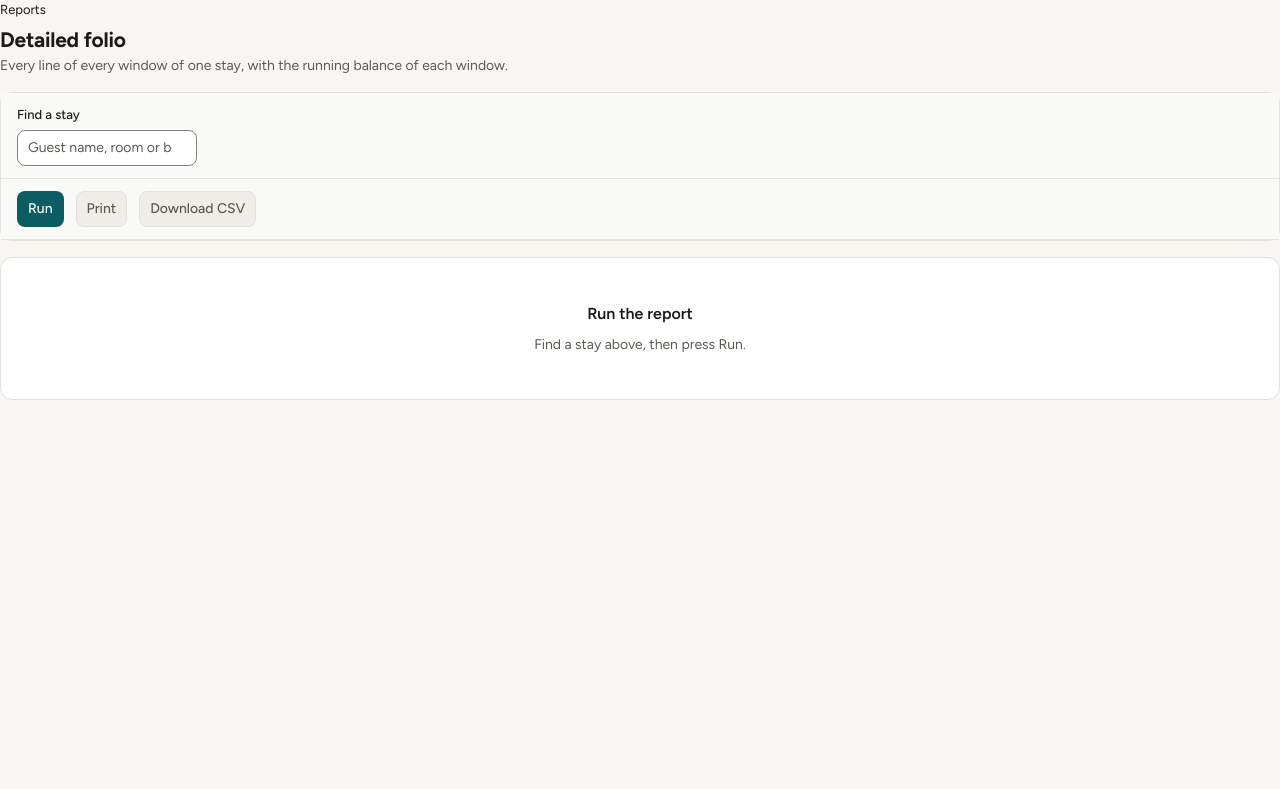
Test: ReportRunnerScreen: Part B cashier and financial › detailed folio: no run without a stay; the picker uses the desk search and fills the key
Check: the heading "Detailed folio" is shown, box left=0, top=26, right=126, bottom=54
Check: the element with test id "report-idle" shows "Find a stay above, then press Run.", box left=534, top=336, right=746, bottom=353
Click the button with test id "report-run": (40, 209) left=17, top=191, right=64, bottom=227
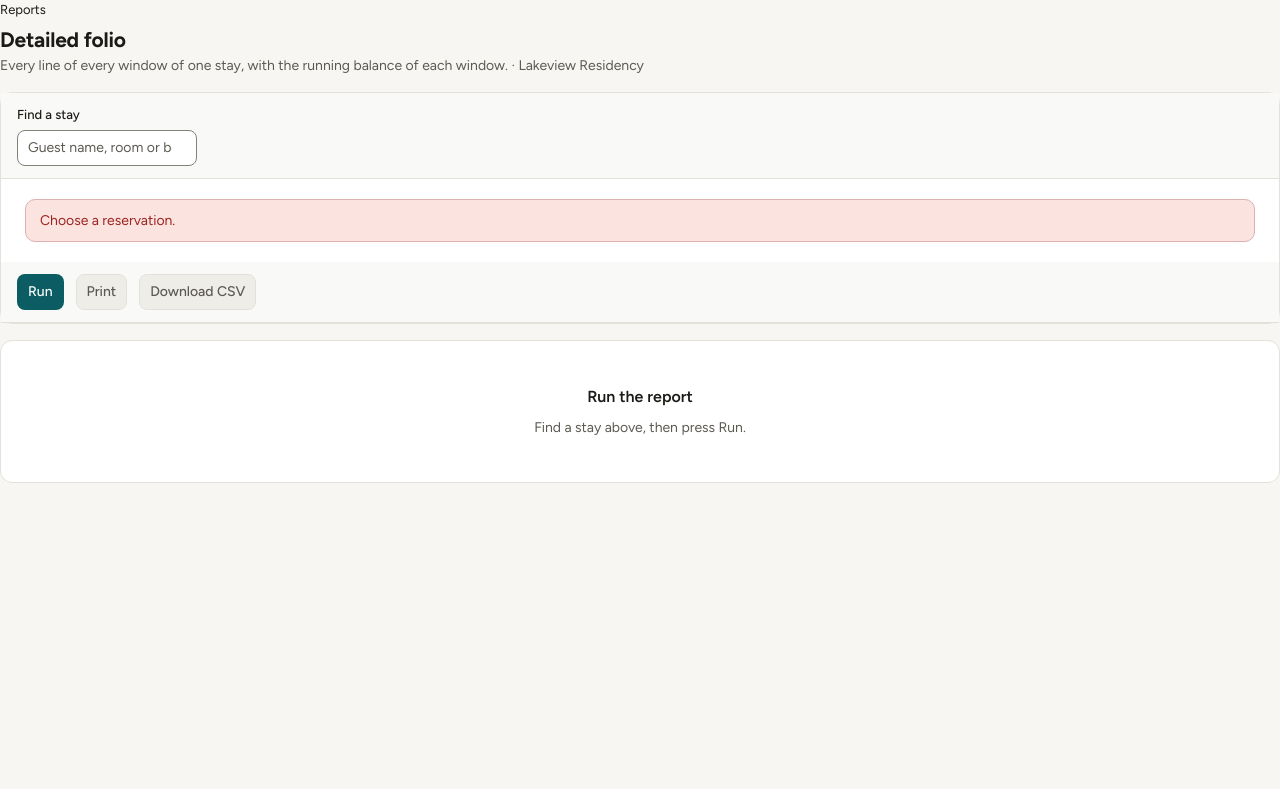
Check: the message with test id "report-form-error" reads "Choose a reservation.", box left=40, top=212, right=175, bottom=229
In the search field with test id "report-reservation-search": (107, 148) left=17, top=130, right=197, bottom=166, type "asha"
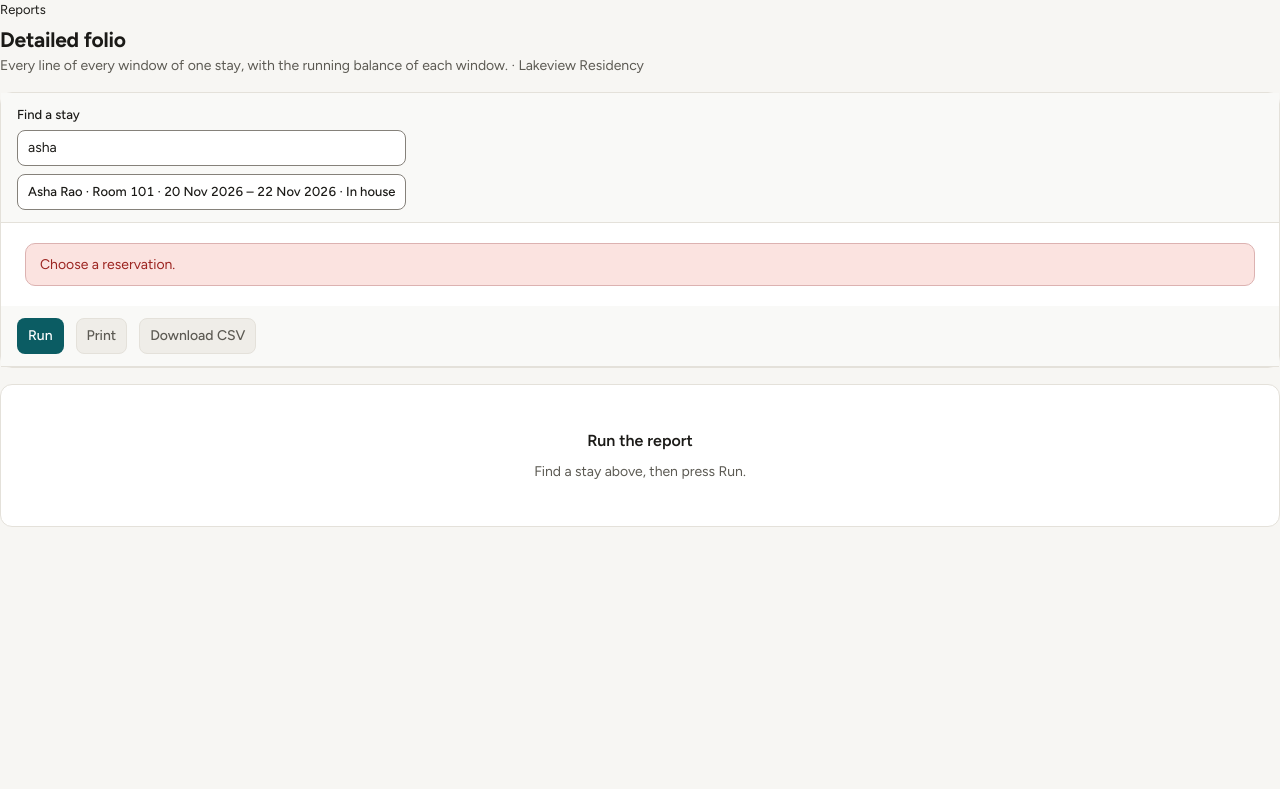
Click the button "Asha Rao · Room 101 · 20 Nov 2026 – 22 Nov 2026 · In house": (212, 192) left=17, top=174, right=406, bottom=210
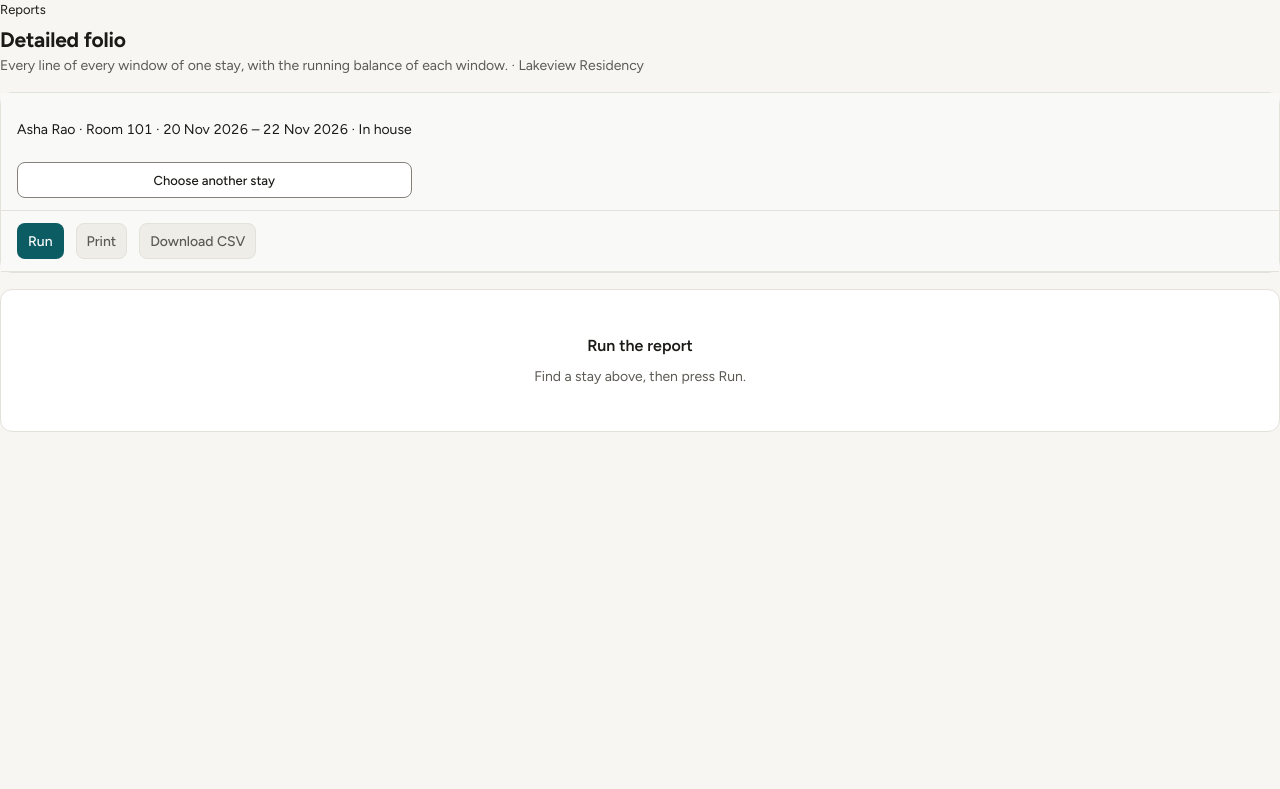
Check: the element with test id "report-reservation-picked" shows "Asha Rao · Room 101", box left=17, top=122, right=412, bottom=138
Click the button with test id "report-run": (40, 242) left=17, top=224, right=64, bottom=260
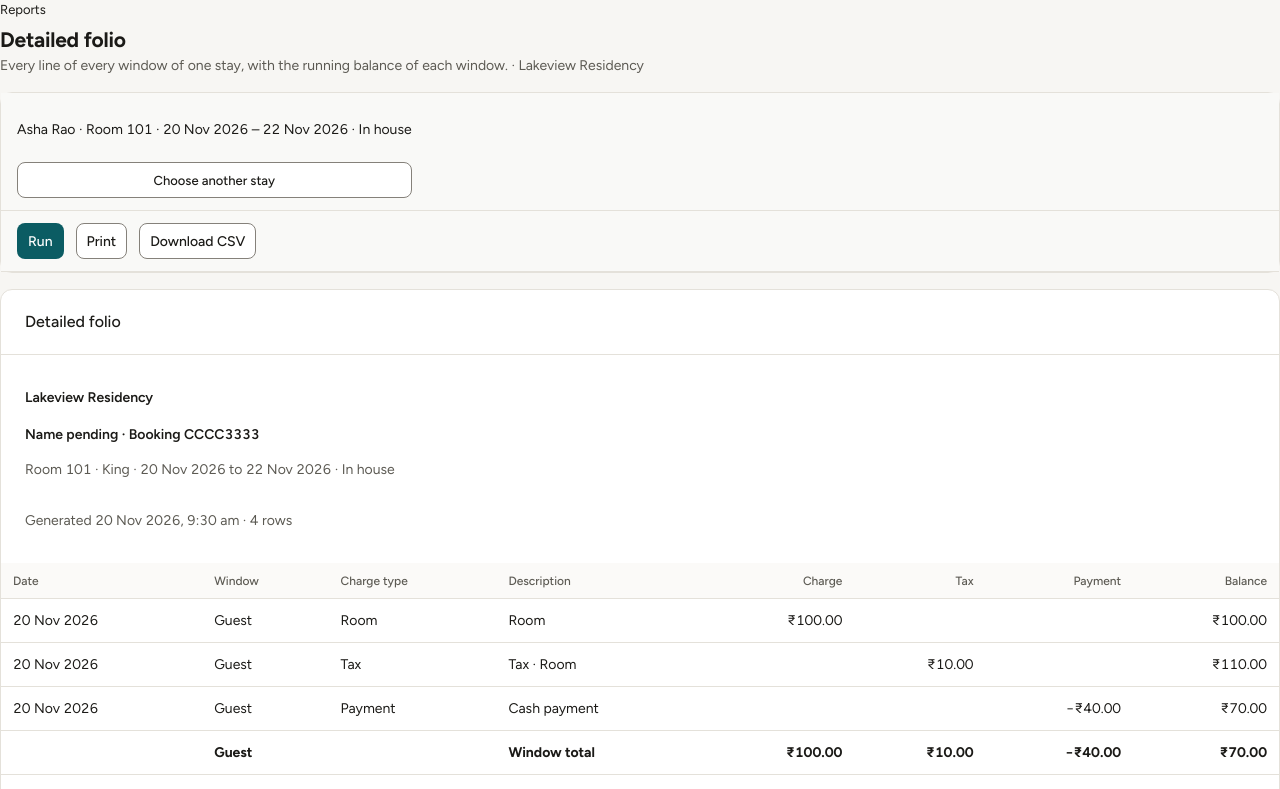
Click the button with test id "report-reservation-change": (214, 180) left=17, top=162, right=412, bottom=198
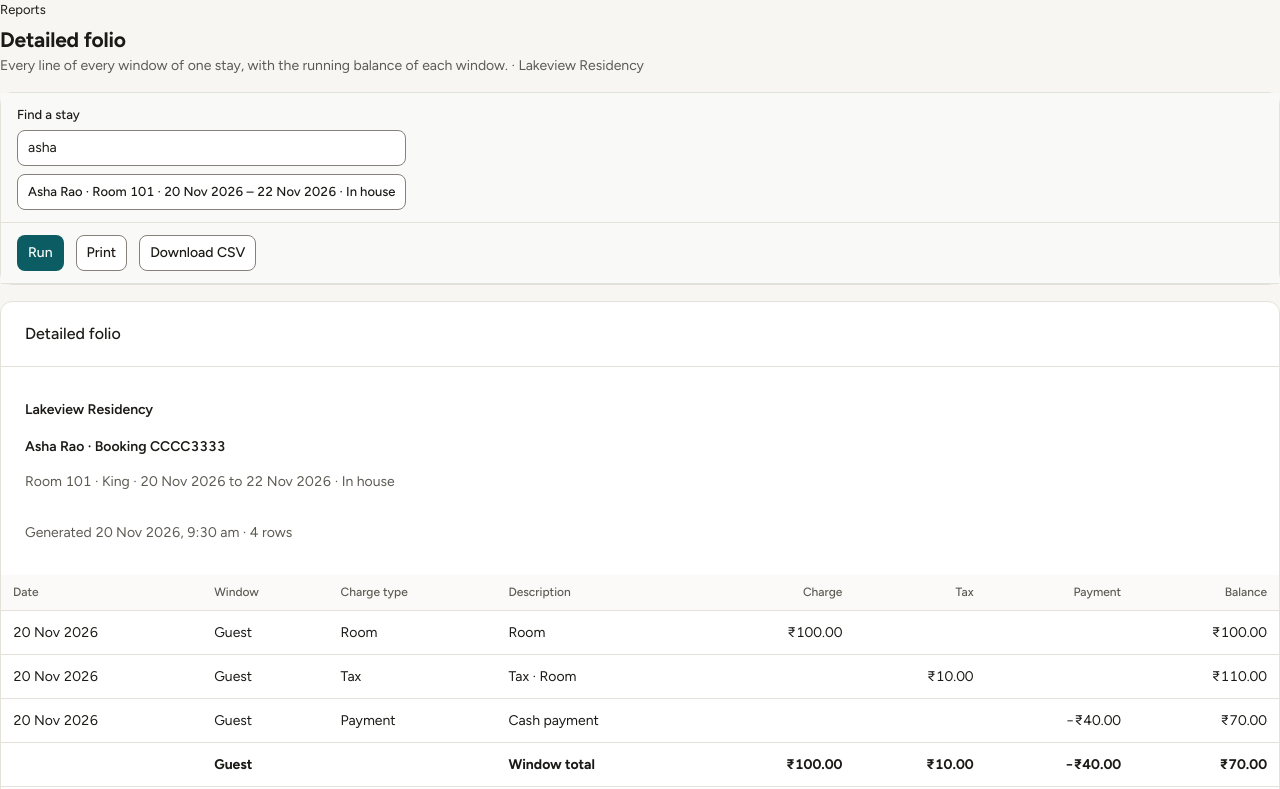
Check: the search field with test id "report-reservation-search" is shown, box left=17, top=130, right=406, bottom=166
